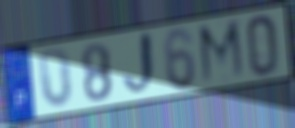0: (37, 47, 74, 111), (245, 13, 280, 79)
6: (162, 25, 199, 93)
8: (80, 42, 115, 104)
J: (121, 29, 159, 101)
M: (196, 17, 248, 88)
